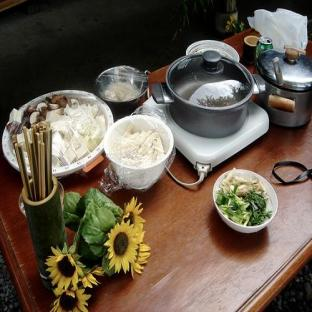sunflower: (81, 198, 150, 277)
